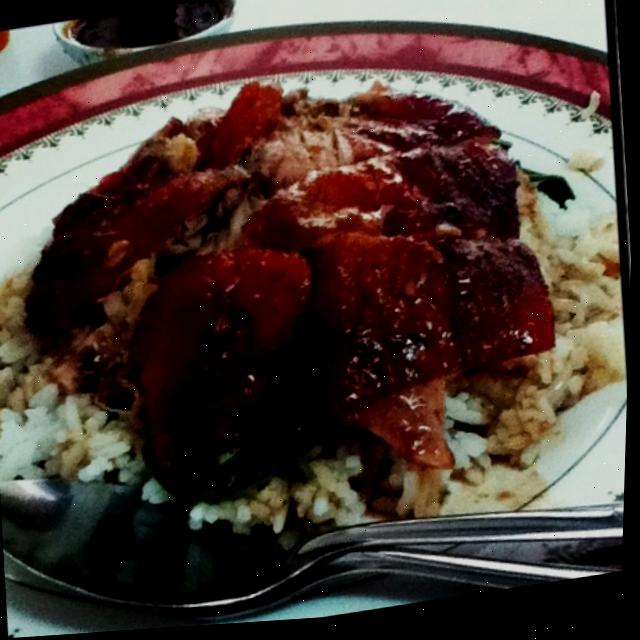猪肉菜式: (0, 1, 628, 626)
